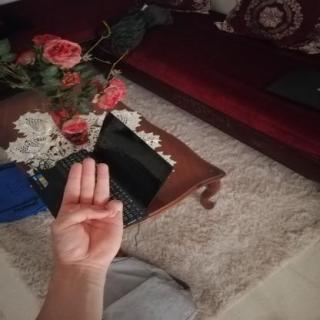THA: (42, 152, 130, 274)
